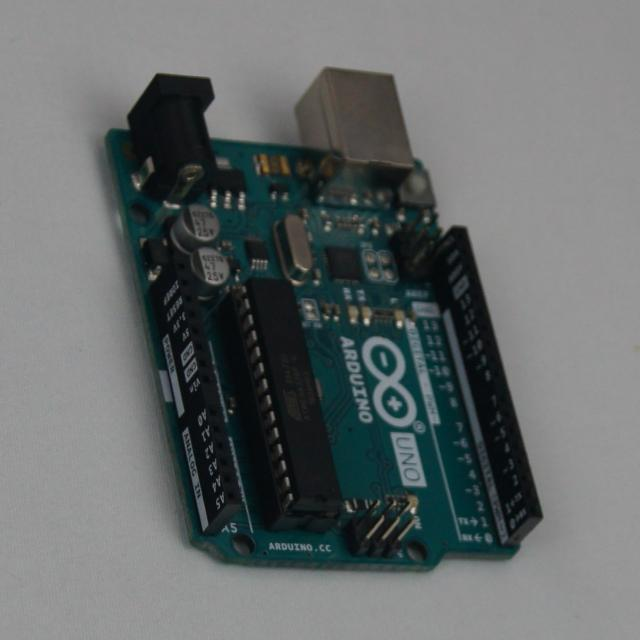Arduino Uno -Green-: (107, 69, 542, 569)
